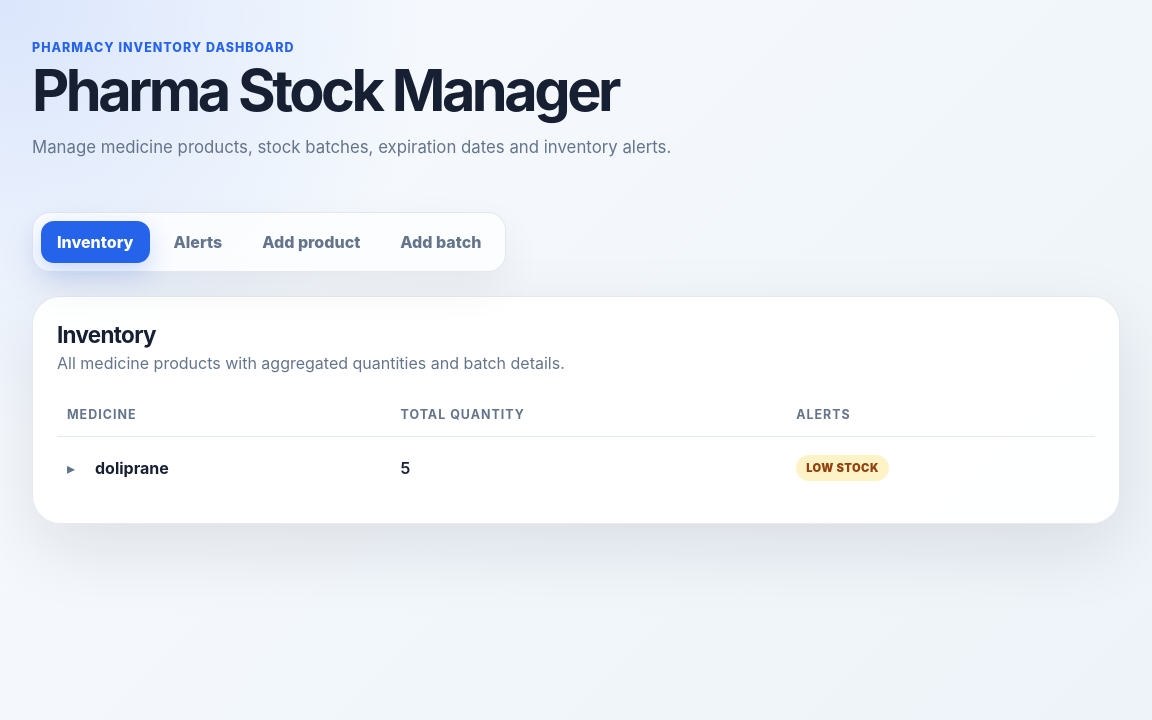
Test: App › should switch to add product tab
This screenshot has width=1152, height=720.
What coordinates should you click on to do the following:
click the button "Add product"
I would click on:
 (311, 242)
Its box is [246,221,376,263].
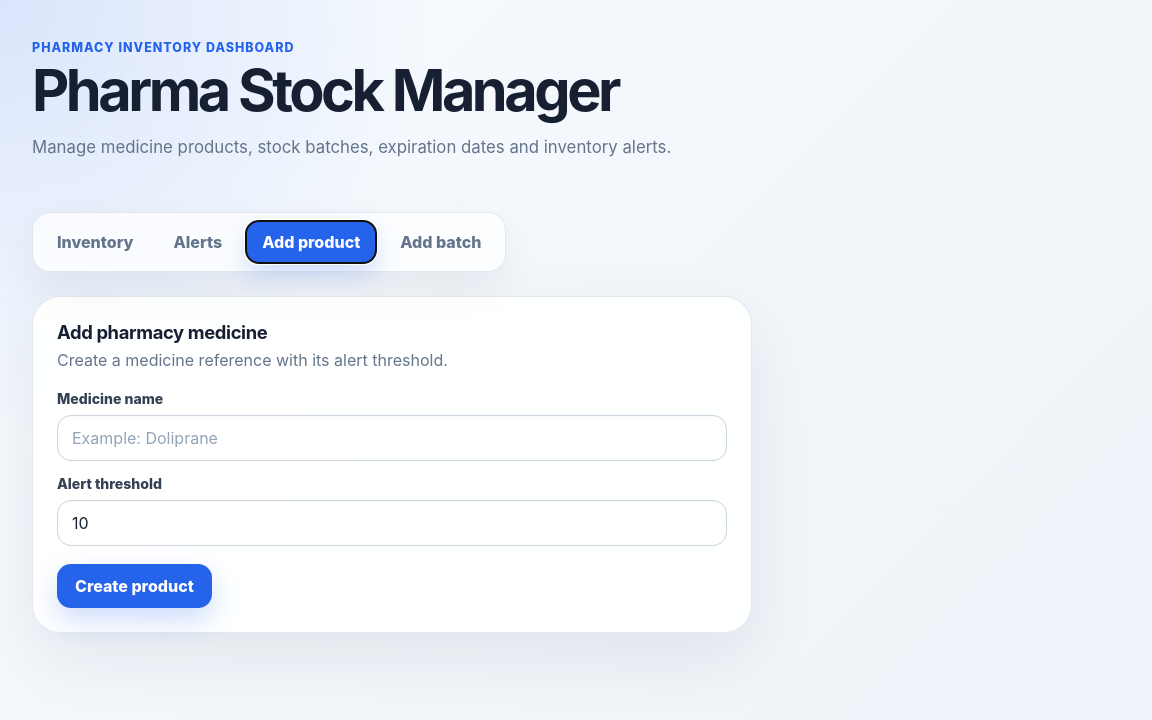
expect the heading "Add pharmacy medicine" is shown: met, box [57,321,267,343]
expect the field labelled "Medicine name" is shown: met, box [57,415,727,461]
